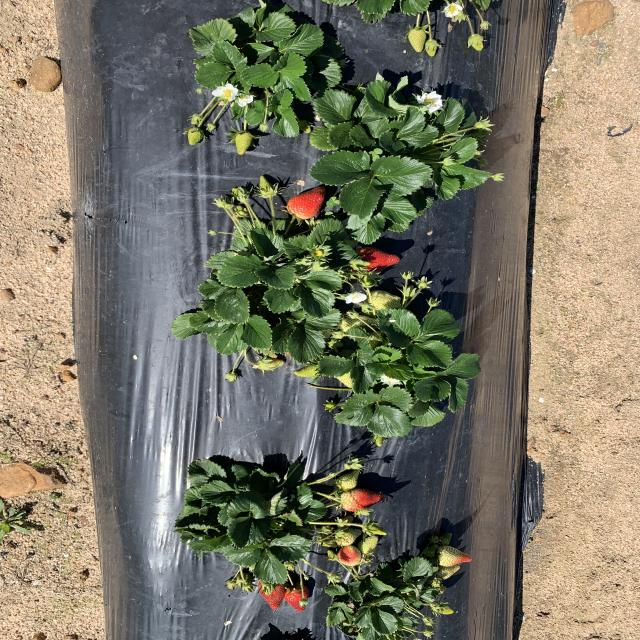unripe: (349, 240, 401, 273), (287, 183, 326, 219), (259, 579, 285, 611), (285, 581, 311, 613), (339, 490, 385, 508)
